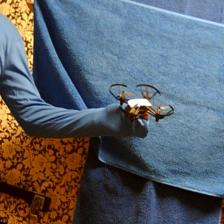drone: (108, 80, 176, 124)
